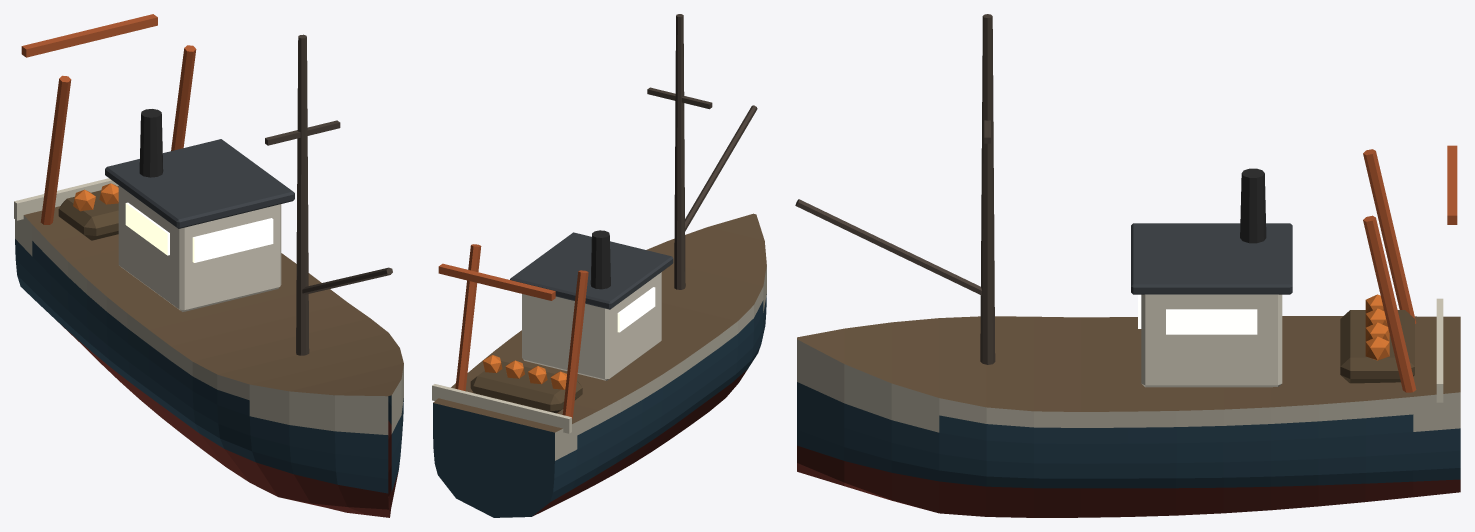
The model's file is trawler.fbx.
3 views of the same model, side by side, from view 1: azimuth 30°, elevation 25°; view 2: azimuth 150°, elevation 25°; view 3: azimuth 270°, elevation 25° (orthographic). The views are drawn at different scales.
Parts seen in each view (by area): view 1: Hull, Body, Wheelhouse, WindowsFront, WindowsStbd; view 2: Hull, Body, Wheelhouse, WindowsStbd; view 3: Hull, Body, Wheelhouse, WindowsPort.
Part boxes in pixels (x1=…): Hull: x1=15, y1=206, x2=403, y2=517; Body: x1=14, y1=14, x2=392, y2=355; Wheelhouse: x1=118, y1=185, x2=281, y2=311; WindowsFront: x1=192, y1=218, x2=273, y2=262; WindowsStbd: x1=125, y1=202, x2=169, y2=255; Hull: x1=433, y1=213, x2=766, y2=517; Body: x1=432, y1=14, x2=757, y2=433; Wheelhouse: x1=522, y1=272, x2=661, y2=380; WindowsStbd: x1=617, y1=287, x2=655, y2=332; Hull: x1=797, y1=316, x2=1460, y2=517; Body: x1=795, y1=14, x2=1457, y2=402; Wheelhouse: x1=1141, y1=294, x2=1282, y2=387; WindowsPort: x1=1166, y1=309, x2=1257, y2=334.
Bounding box in the file's own units: 2.7 × 6.6 × 8.02.
